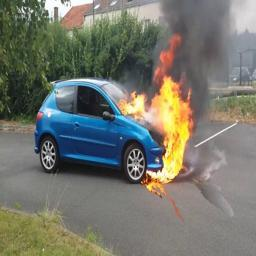fire: (119, 33, 194, 184)
